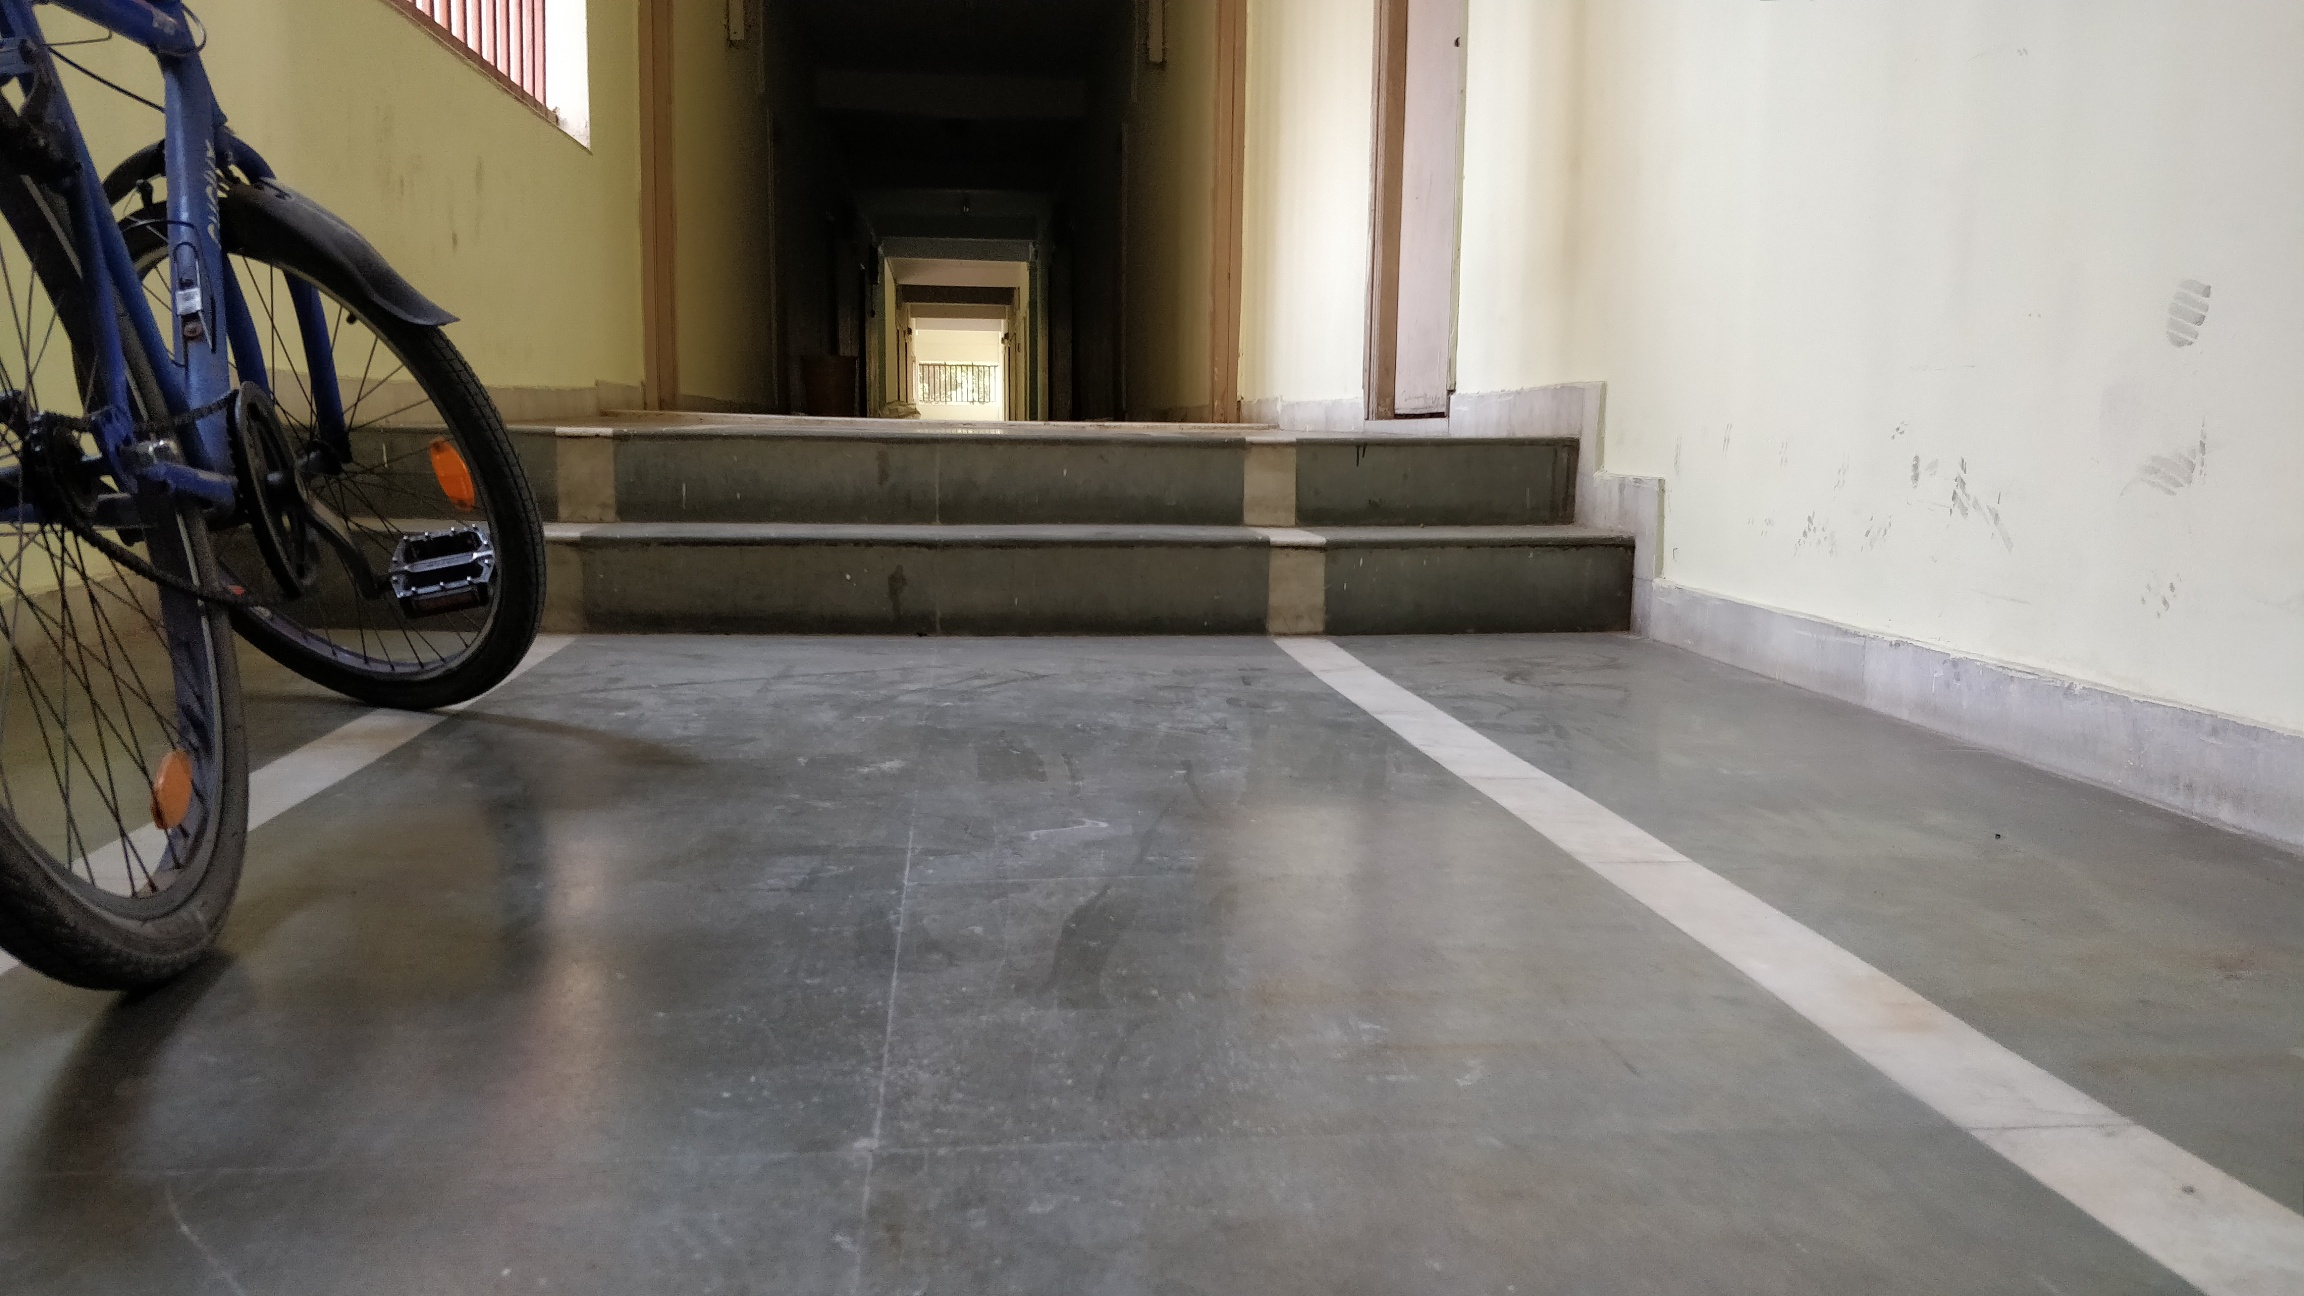stairs_up: (543, 418, 1627, 649)
